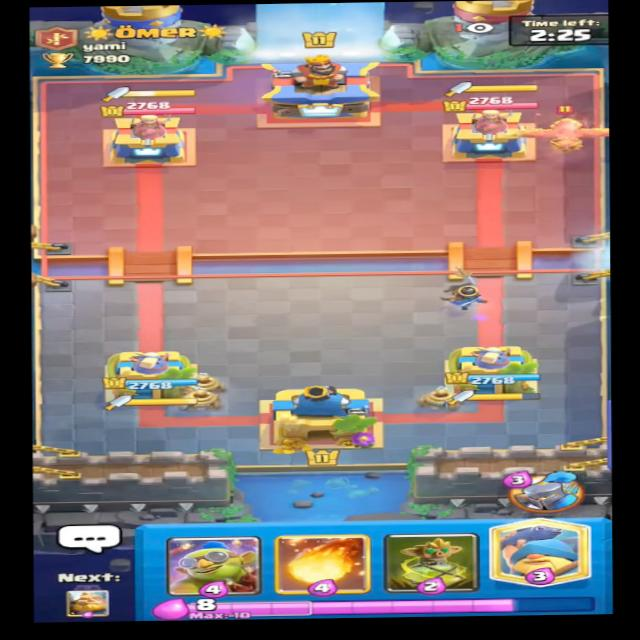phoenix: (506, 107, 617, 159)
